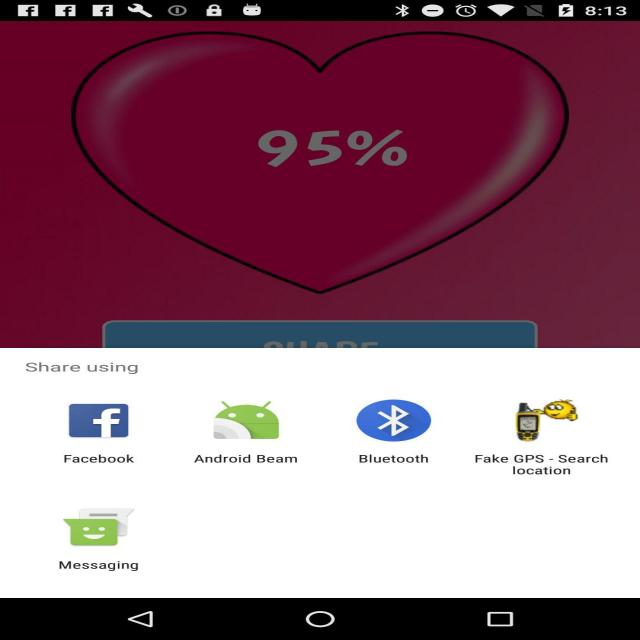icon: (332, 387, 469, 471), (38, 498, 178, 580), (35, 389, 178, 468), (197, 384, 316, 467), (499, 397, 614, 475)
image: (18, 18, 625, 332)
text: (250, 108, 464, 193)
